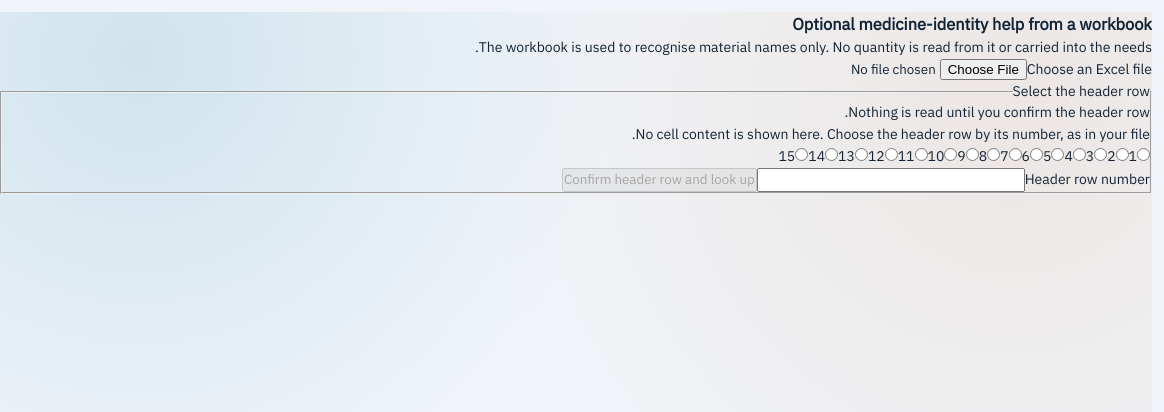
Scenario: BEFORE confirmation: row numbers only, no worksheet cell is accessed › the row count comes from coordinates only: a long sheet offers the first rows as radios and every row through the number field
Type "41" into the field labelled "Header row number" at x=891, y=180, box 757,168 -> 1025,192
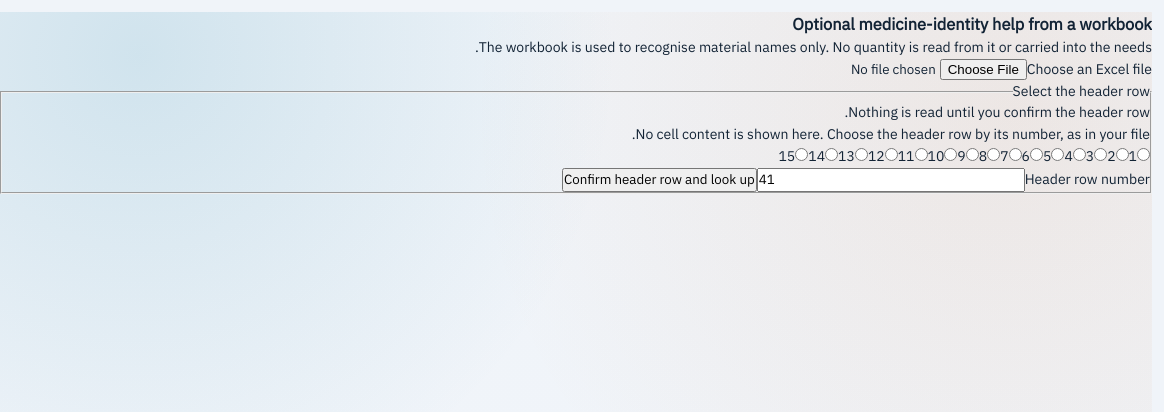
Now the button "Confirm header row and look up" is enabled, box 562,168 -> 757,192
Replace the text in the field labelled "Header row number" with "42" at x=891, y=180, box 757,168 -> 1025,192
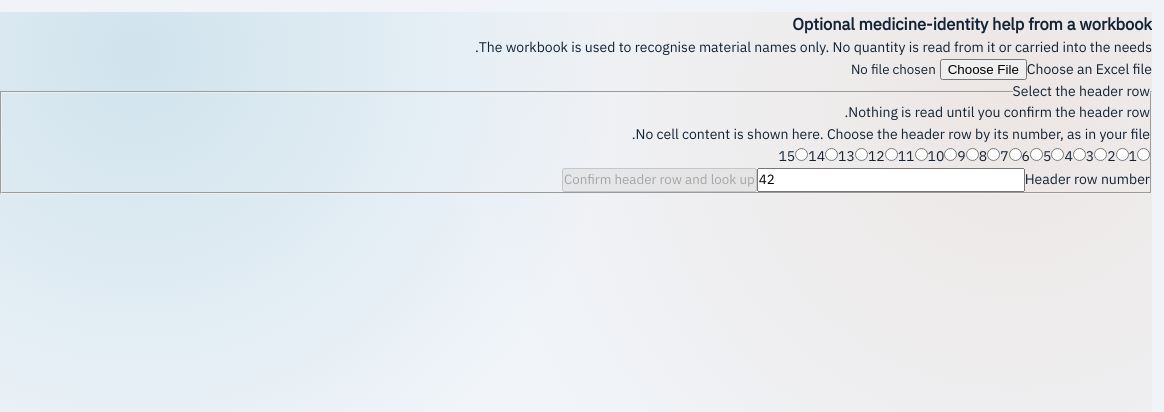
Now the button "Confirm header row and look up" is disabled, box 562,168 -> 757,192
